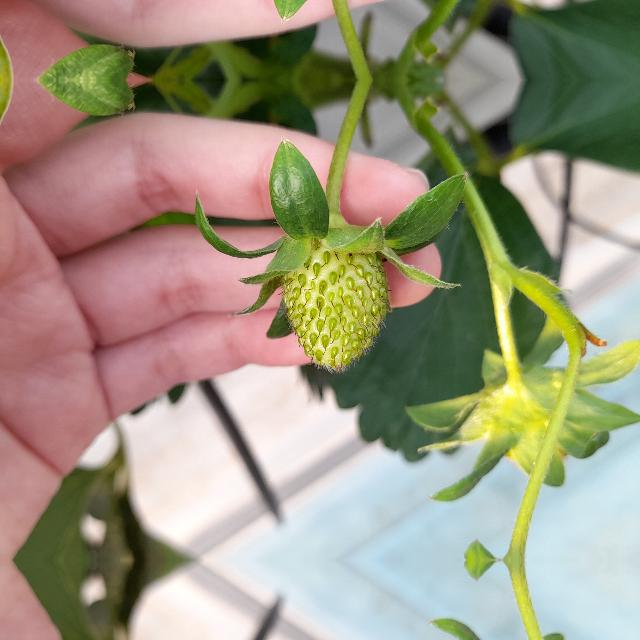Health_25: (277, 246, 391, 374)
